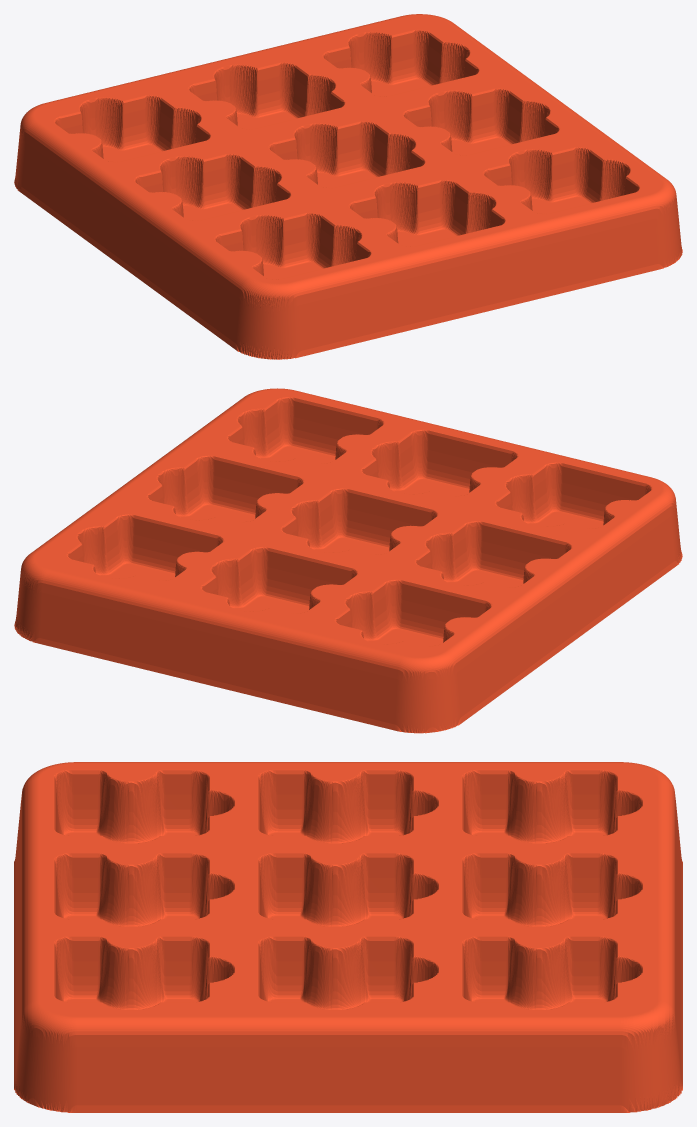
File: mold.glb
3 renders of one model, top to bottom at view 1: azimuth 30°, elevation 25°; view 2: azimuth 150°, elevation 25°; view 3: azimuth 270°, elevation 25°, orthographic. The views are drawn at different scales.
Visible parts, largest first — view 1: geometry_0; view 2: geometry_0; view 3: geometry_0.
Part boxes in pixels (left/top/right/bottom): geometry_0: left=14, top=14, right=682, bottom=359; geometry_0: left=14, top=388, right=682, bottom=733; geometry_0: left=14, top=762, right=682, bottom=1112.
Size of the model in its own units: 0.0934 by 0.0136 by 0.0964.
